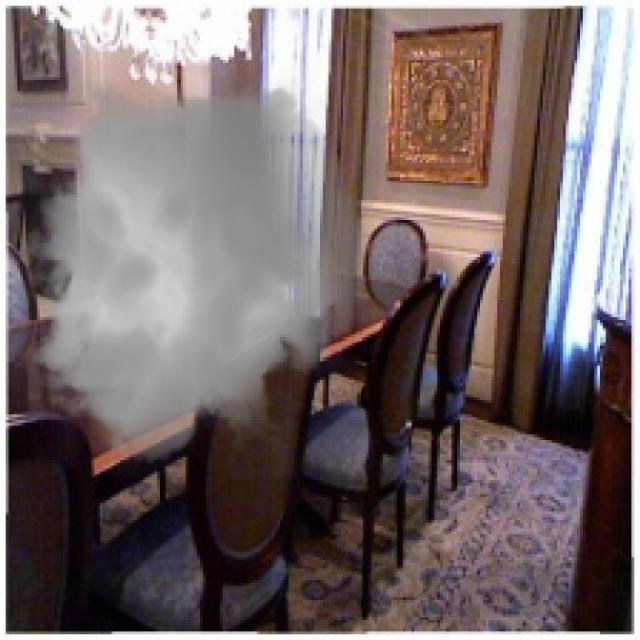Smoke: (12, 66, 377, 477)
